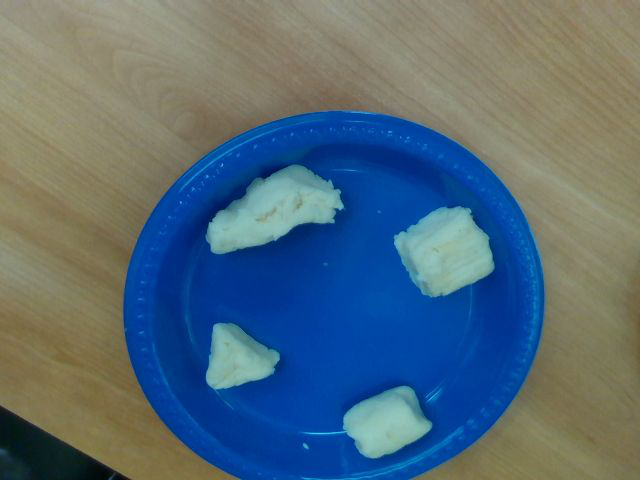mashed_potato: (207, 165, 341, 253), (395, 205, 493, 297), (344, 386, 431, 458), (205, 323, 279, 389)
